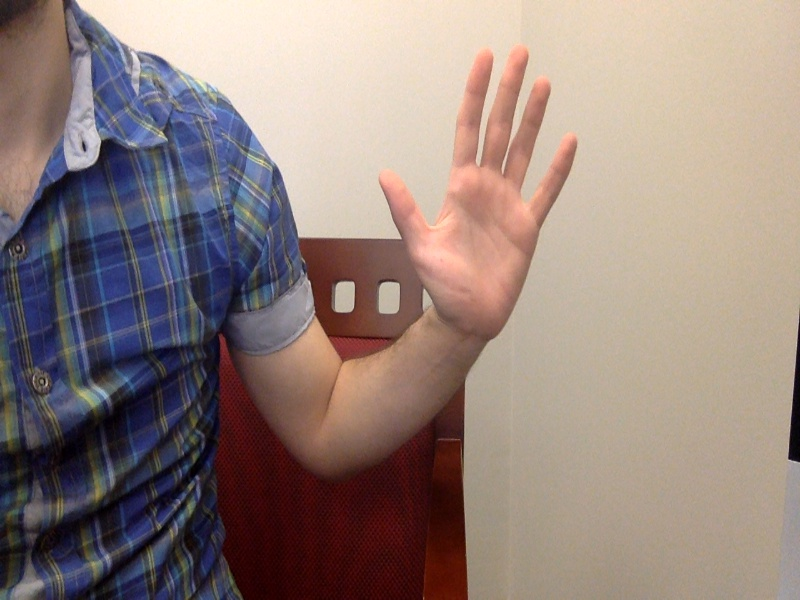5-hand: (378, 47, 583, 334)
